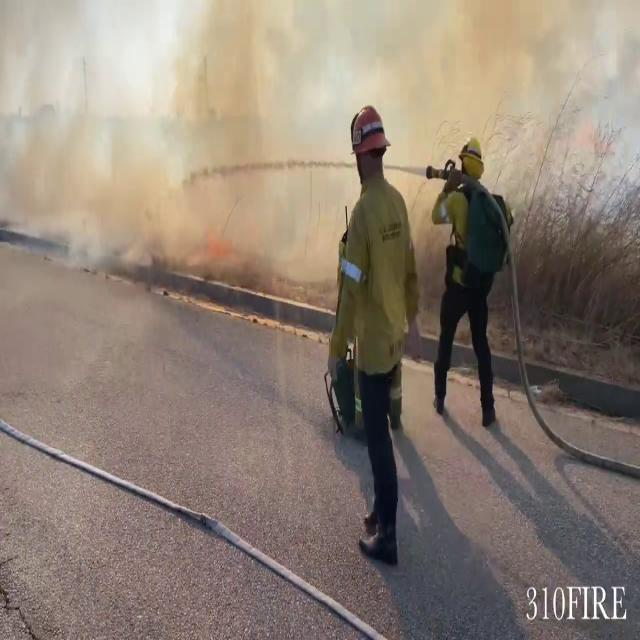Smoke: (0, 0, 328, 273), (376, 0, 636, 161)
